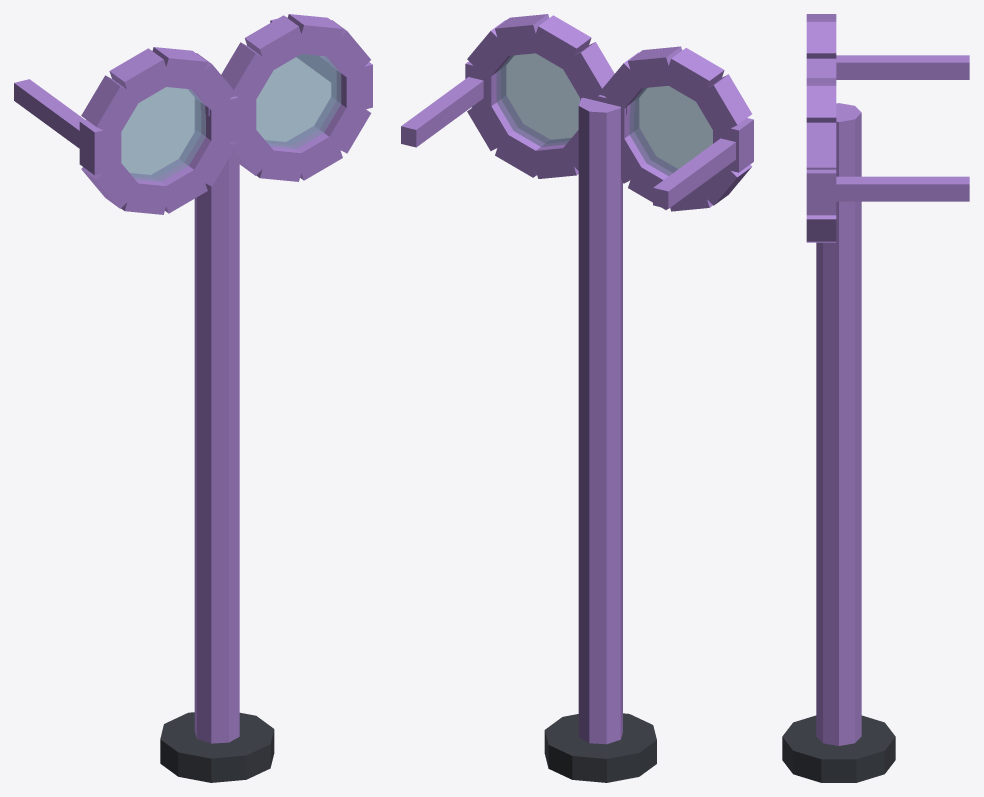
Rendered from artillery_m2_1.glb.
The picture shows the model from 3 angles, left to right: view 1: azimuth 30°, elevation 25°; view 2: azimuth 150°, elevation 25°; view 3: azimuth 270°, elevation 25°; orthographic projection. The views are drawn at different scales.
Parts seen in each view (by area): view 1: artillery_m2_1_mesh; view 2: artillery_m2_1_mesh; view 3: artillery_m2_1_mesh.
Part boxes in pixels (x1,y1,x2,y2): artillery_m2_1_mesh: (14, 14, 372, 782); artillery_m2_1_mesh: (401, 14, 753, 782); artillery_m2_1_mesh: (782, 14, 969, 782).
Size of the model in its own units: 0.358 by 0.8957 by 0.215.
